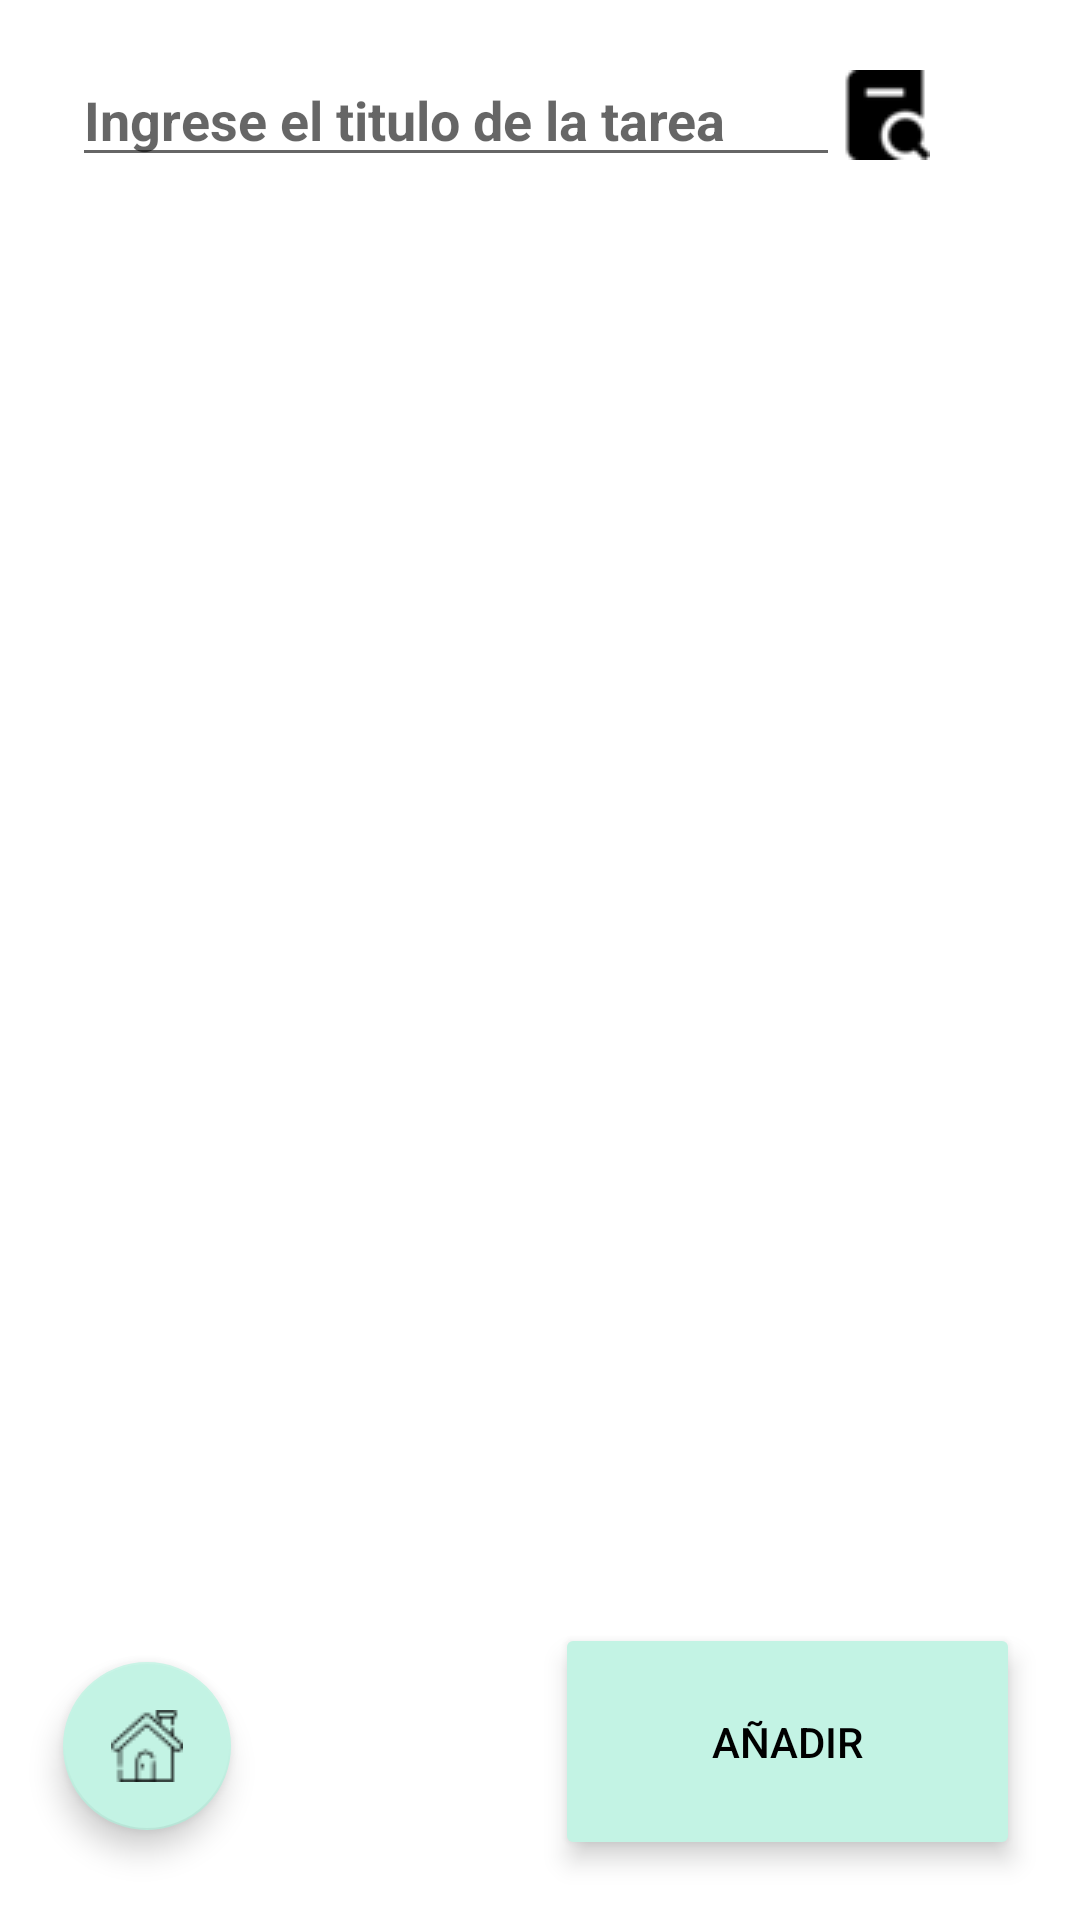

Named icons in this screenshot (1080px×1920px) and their bounding boxes, region(x1, y1, x2, y2):
casa: region(63, 1662, 231, 1830)
